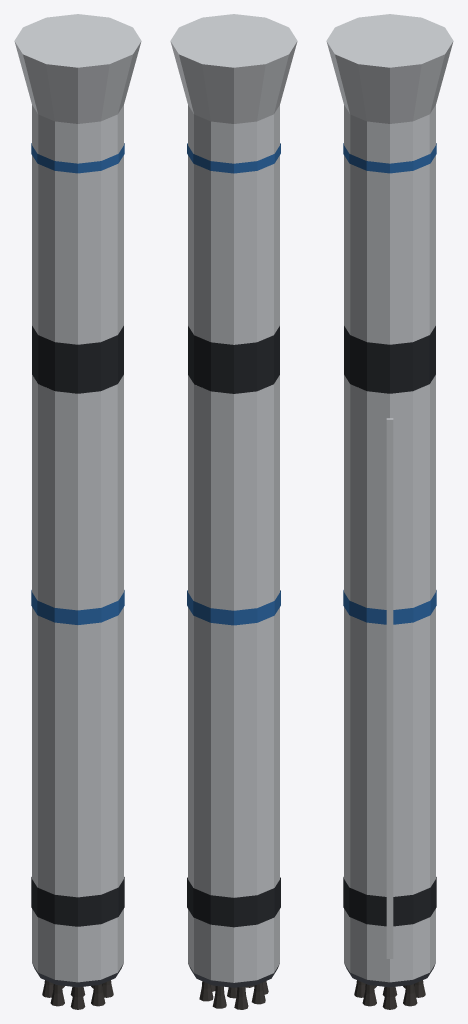
The model's file is rocket_light.glb.
3 renders of one model, left to right at view 1: azimuth 90°, elevation 25°; view 2: azimuth 150°, elevation 25°; view 3: azimuth 270°, elevation 25°, orthographic.
Visible parts, largest first — view 1: light_stage1__White, light_stage2__White, light_stage1__Dark, light_stage1__Accent, light_stage1__Engine, light_stage2__Accent; view 2: light_stage1__White, light_stage2__White, light_stage1__Dark, light_stage1__Accent, light_stage1__Engine, light_stage2__Accent; view 3: light_stage1__White, light_stage2__White, light_stage1__Dark, light_stage1__Accent, light_stage1__Engine, light_stage2__Accent.
Boxes of the visible parts, x1,y1,x2,y2 form: light_stage1__White: (32, 375, 123, 982); light_stage2__White: (14, 14, 141, 344); light_stage1__Dark: (31, 326, 124, 987); light_stage1__Accent: (31, 590, 124, 624); light_stage1__Engine: (42, 980, 113, 1009); light_stage2__Accent: (31, 143, 124, 173); light_stage1__White: (188, 375, 279, 982); light_stage2__White: (170, 14, 297, 344); light_stage1__Dark: (187, 326, 280, 987); light_stage1__Accent: (187, 590, 280, 625); light_stage1__Engine: (199, 981, 268, 1009); light_stage2__Accent: (187, 143, 280, 173); light_stage1__White: (344, 375, 435, 982); light_stage2__White: (326, 14, 453, 344); light_stage1__Dark: (343, 326, 436, 987); light_stage1__Accent: (343, 590, 436, 624); light_stage1__Engine: (354, 980, 425, 1009); light_stage2__Accent: (343, 143, 436, 173).
Size of the model in its own units: 4.7 by 38.9 by 4.7.
